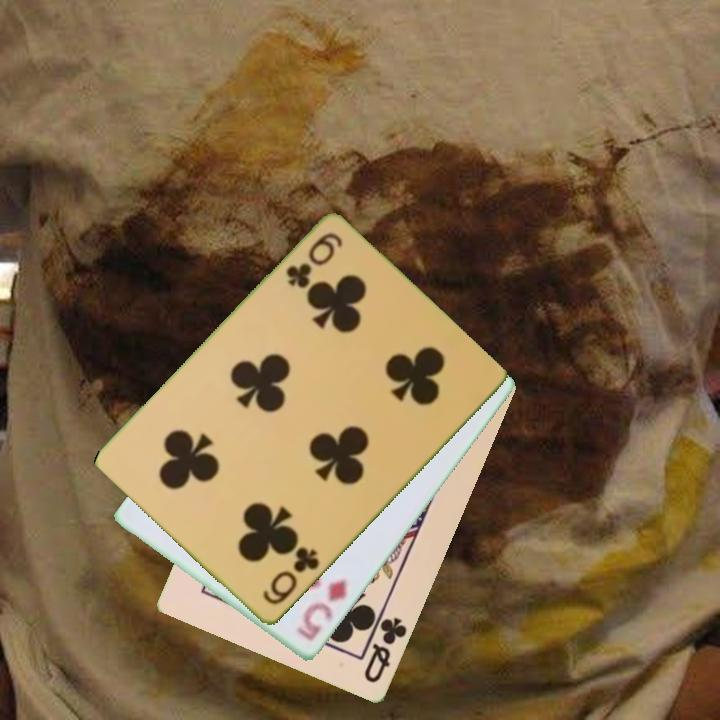5d: (293, 575, 350, 645)
6c: (259, 543, 323, 609), (282, 229, 346, 292)
Qc: (360, 606, 410, 687)
